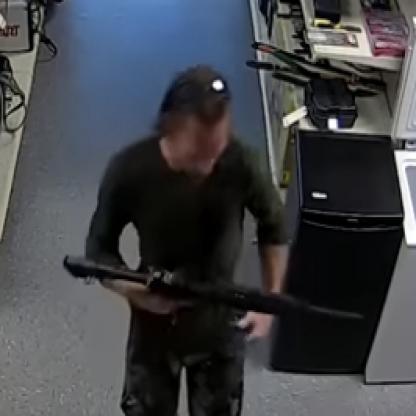criminal: (61, 65, 366, 416)
weapon: (61, 251, 365, 334)
